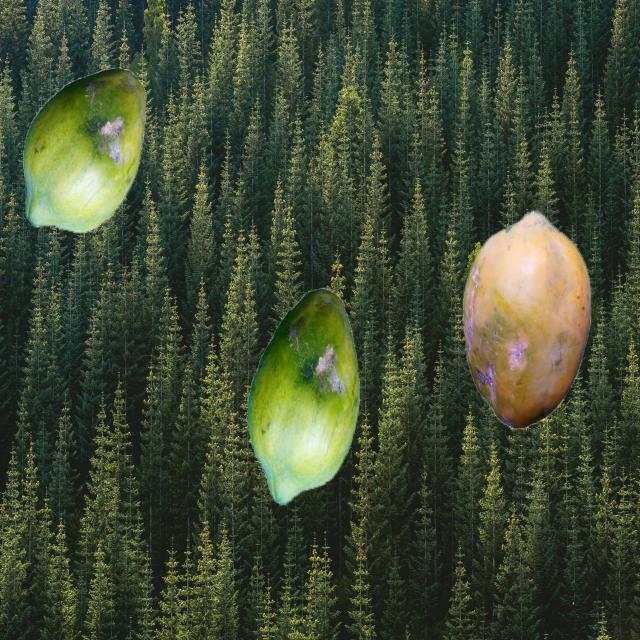Pepaya rippen: (458, 205, 593, 432), (19, 61, 151, 267), (248, 292, 366, 505)
